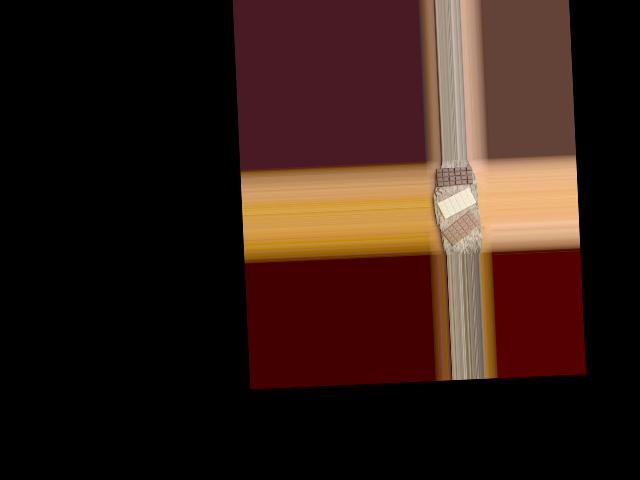chocolate: (435, 165, 472, 186)
